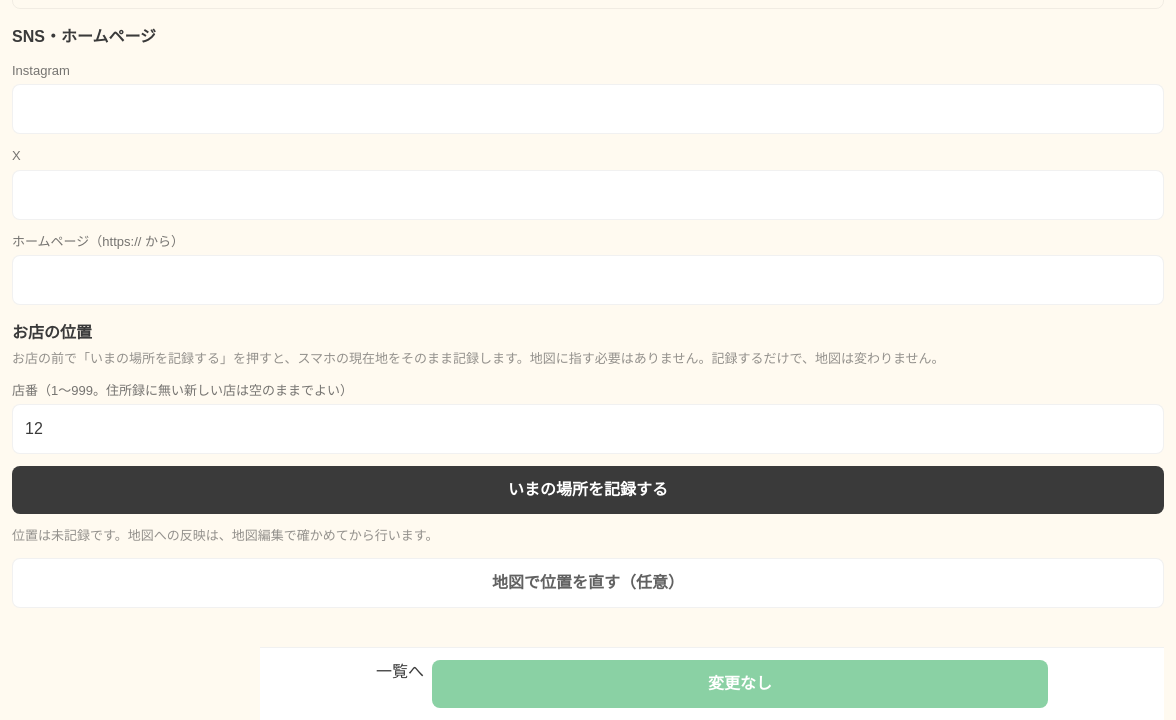
Test: FieldShopEditor › 「いまの場所を記録する」で、現在地をそのまま記録する（地図に指さなくてよい）
(page scrolled)
Click the button "いまの場所を記録する": [588, 490] box [12,466,1164,514]
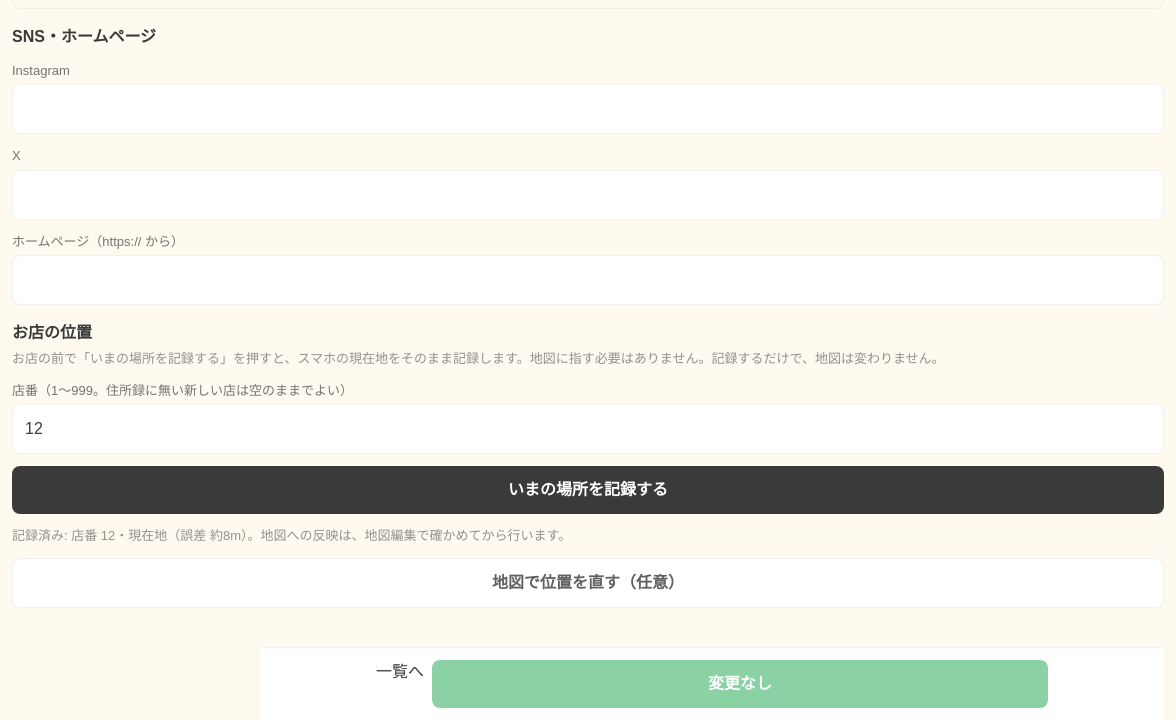
Result: the text "記録済み: 店番 12・現在地（誤差 約8m）。地図への反映は、地図編集で確かめてから行います。" is shown at [12,528,571,543]
